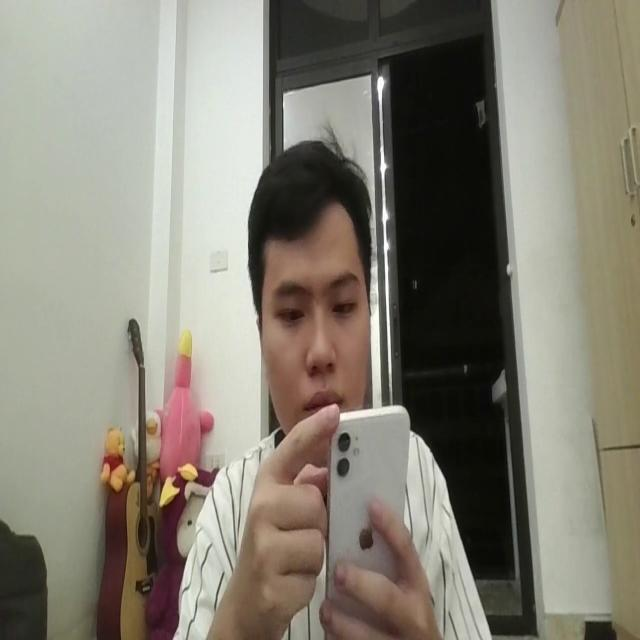phone: (328, 398, 410, 620)
student: (156, 135, 491, 640)
